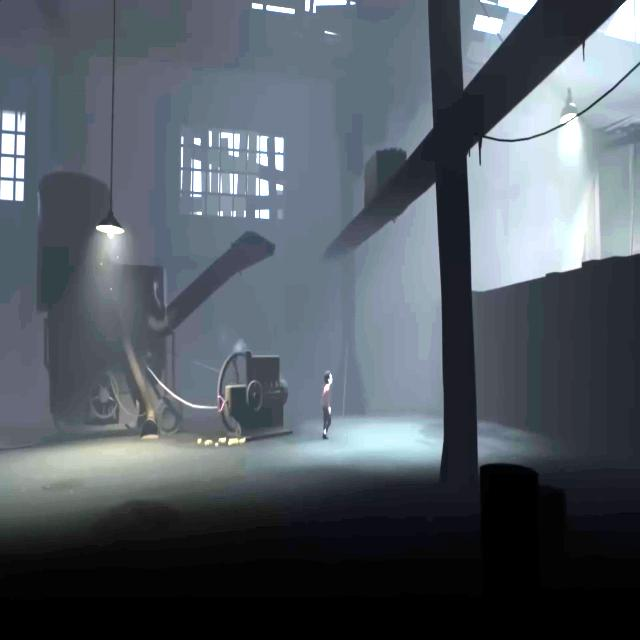boy: (320, 371, 334, 442)
